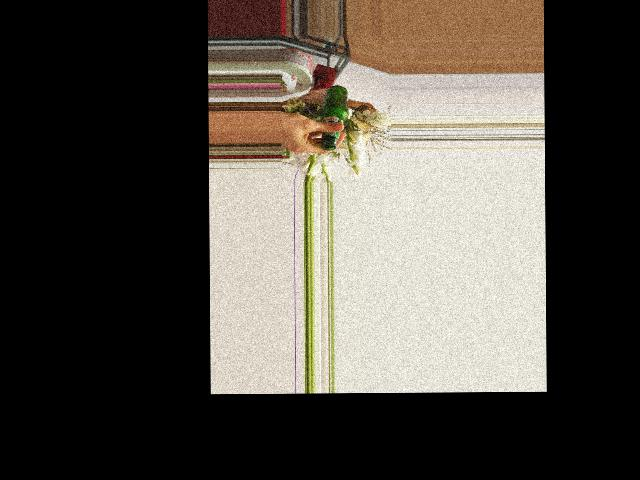beer: (319, 84, 348, 149)
